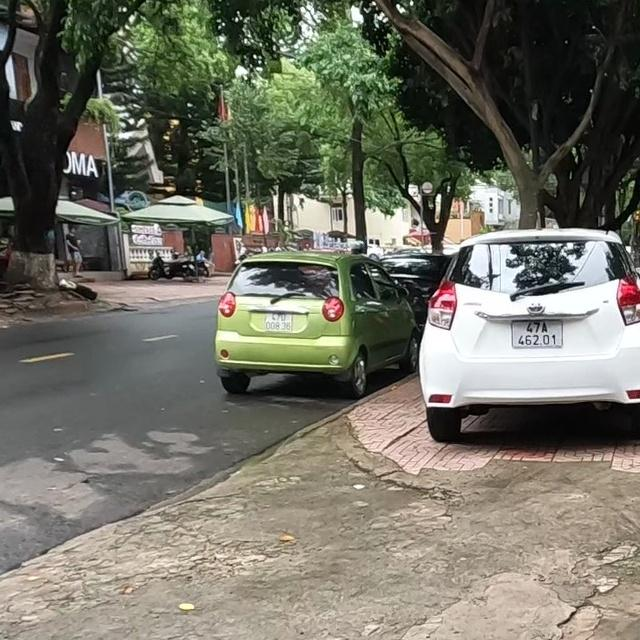license-plate: (512, 320, 563, 348), (264, 311, 293, 332)
